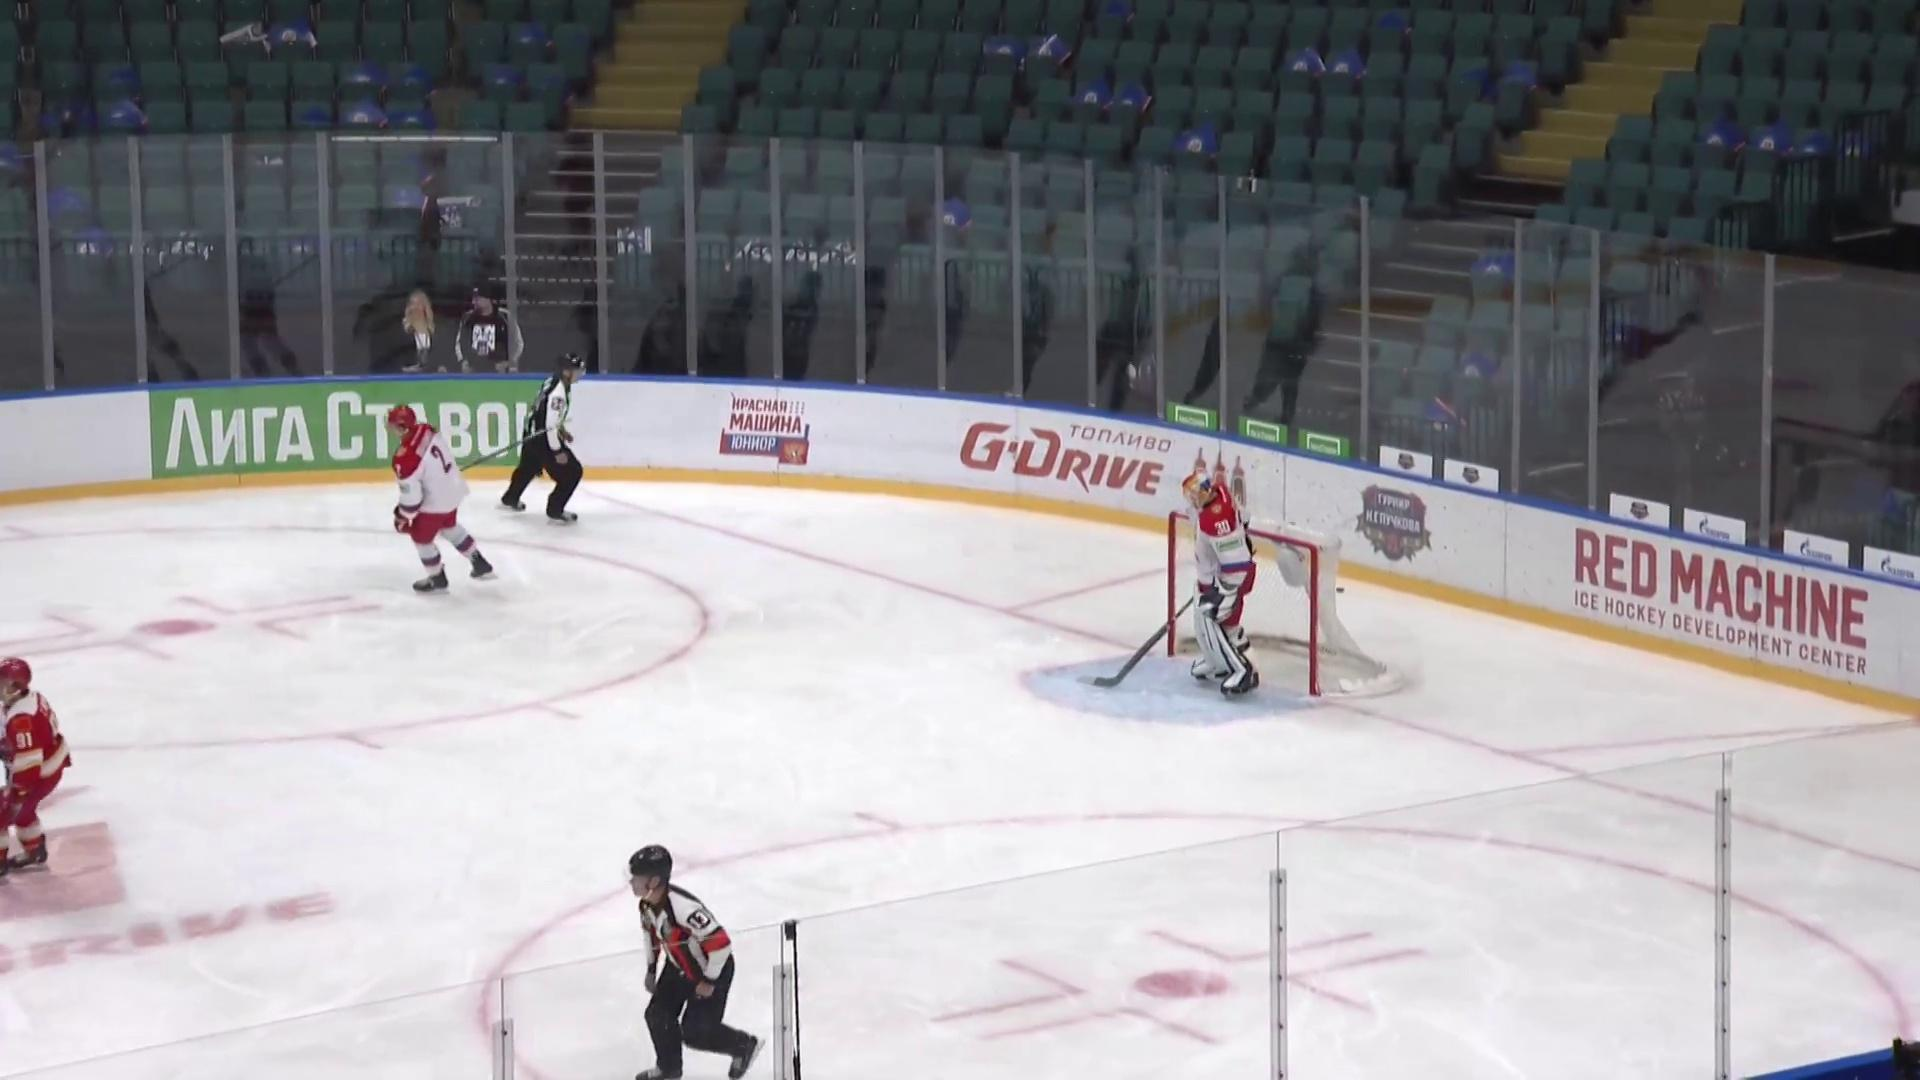ball: (1336, 584, 1346, 595)
